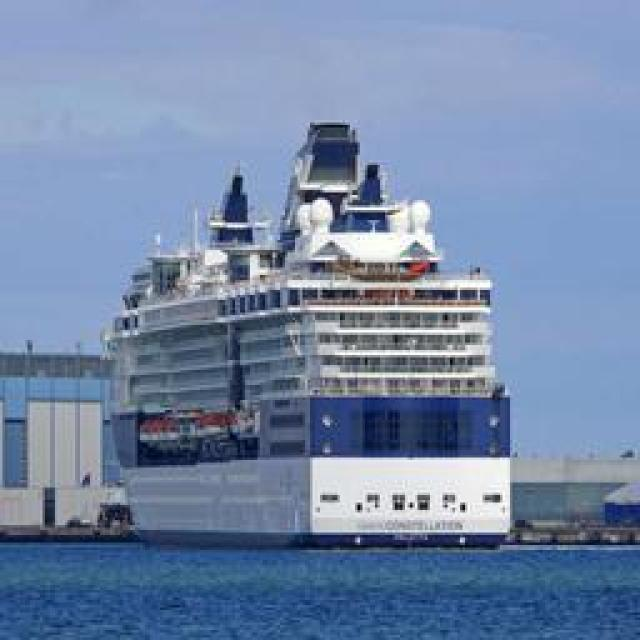CIV_Ship: (85, 126, 520, 552)
